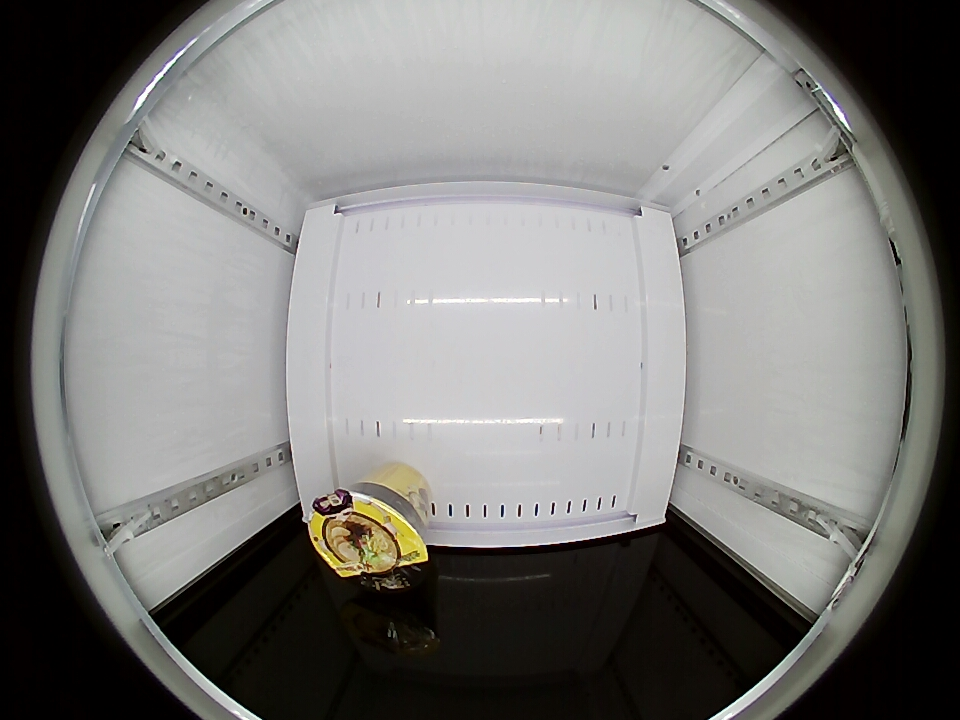tangdaren2: (308, 485, 430, 592)
